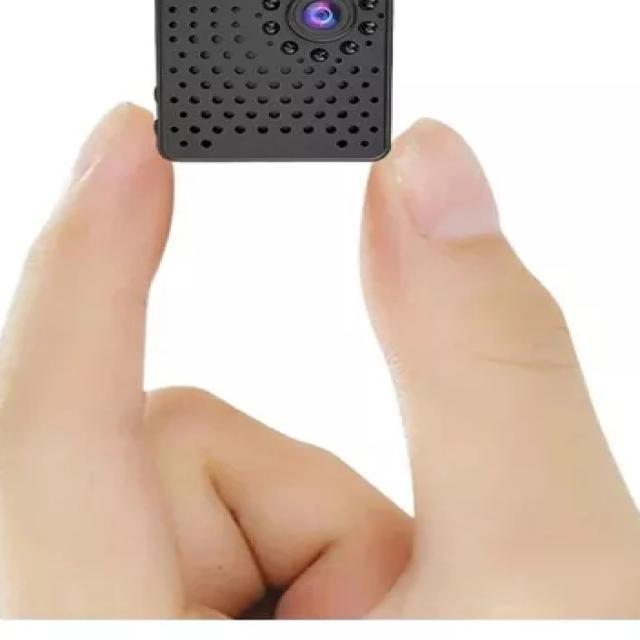hidden camera: (302, 1, 341, 35)
